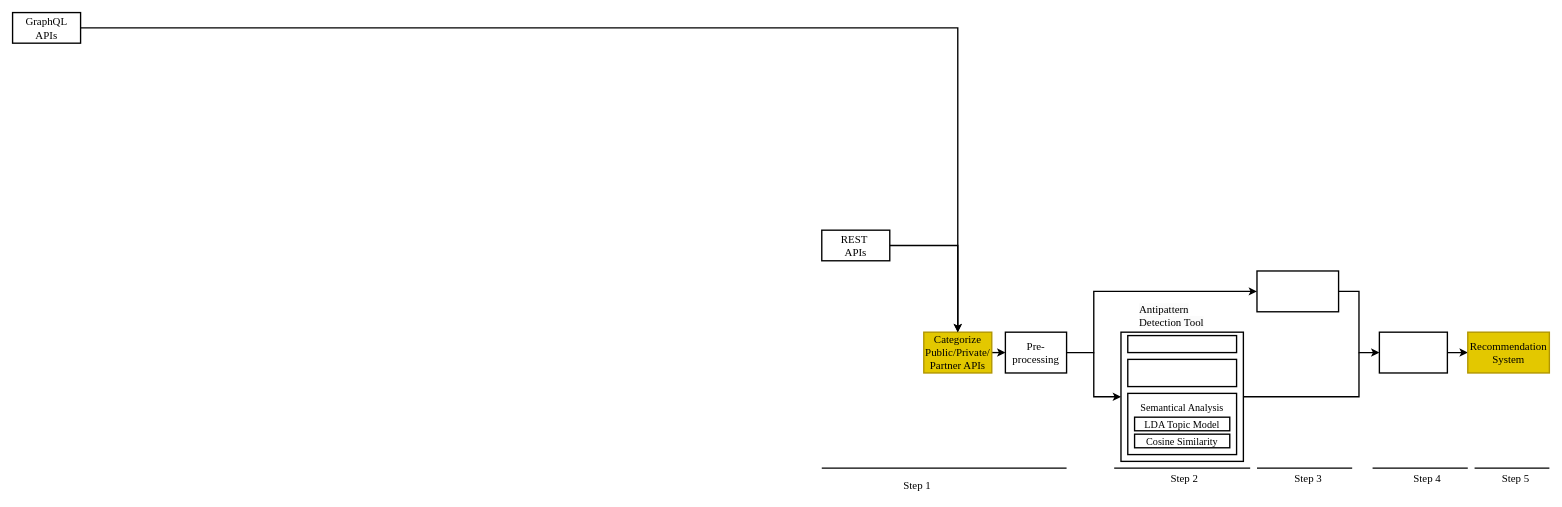
Some shapes in this 1562 by 507 pixel diagram are drawn without their labels. Here are the shapes that lost their labels. From the top down, the centre of each, then its label:
the point at 1297,291: Manual Validation
the point at 1182,344: Heuristics
the point at 1413,352: Result Analysis
the point at 1182,372: Syntactical Analysis
